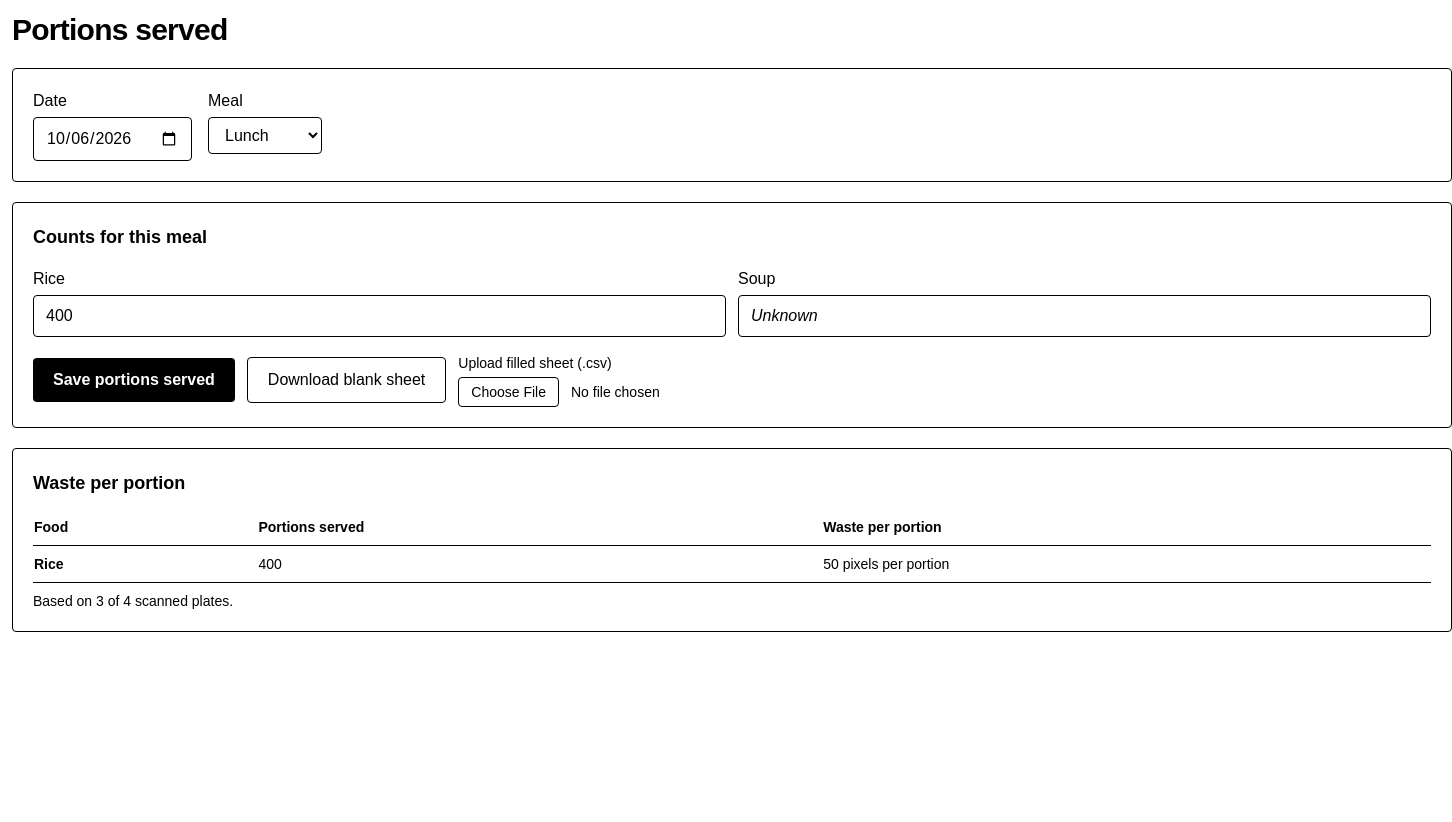
Portions served › saves explicit zero versus unknown, preserves stable IDs and displays the benchmark
This screenshot has width=1452, height=822.
Expected: the number field labelled "Soup" is not empty, 738,295 -> 1431,337
Replace the text in the number field labelled "Rice" with "0" at coordinates (380, 316), box 33,295 -> 726,337
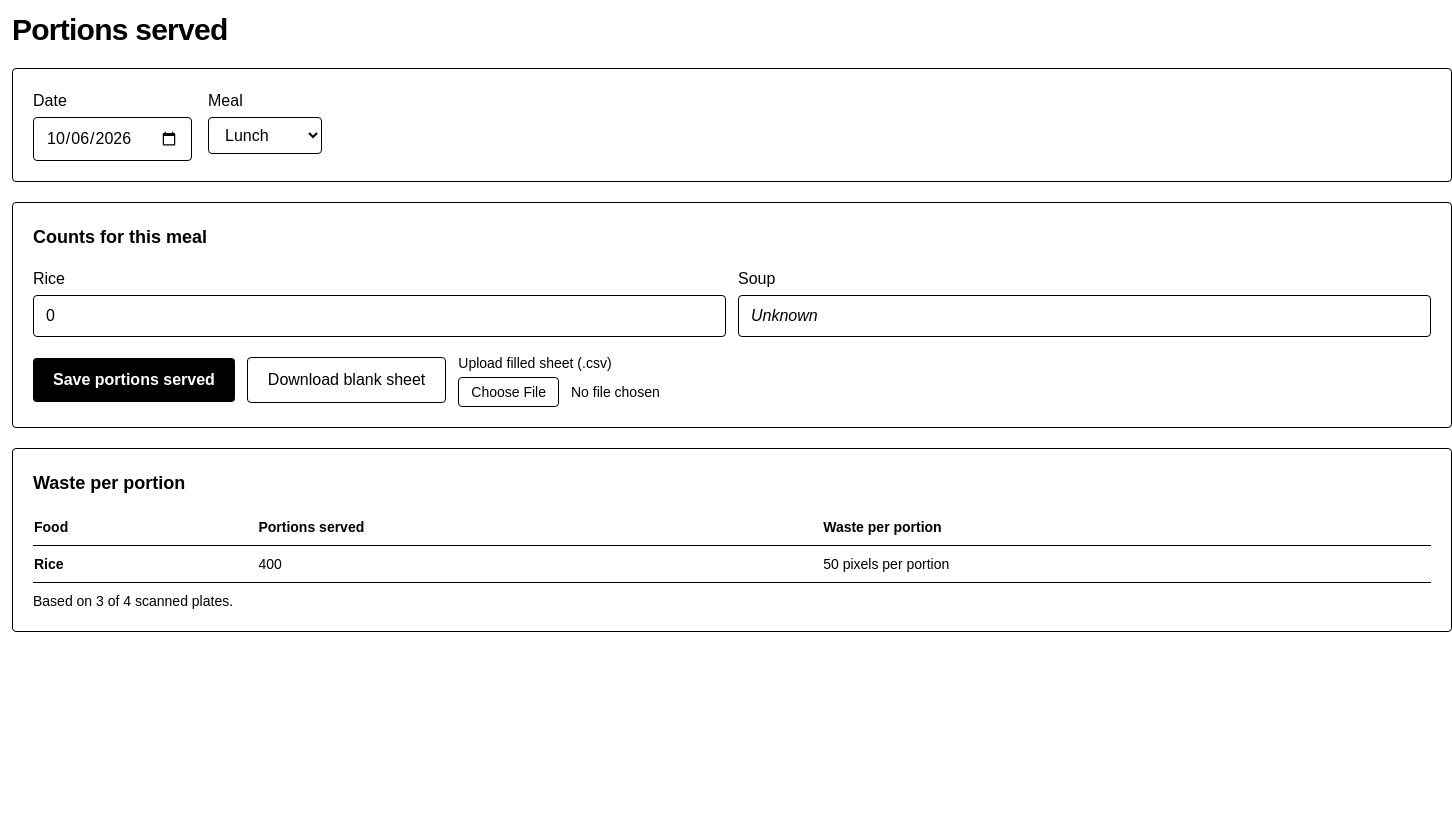
Click the button "Save portions served" at coordinates (134, 380), box 33,358 -> 235,402
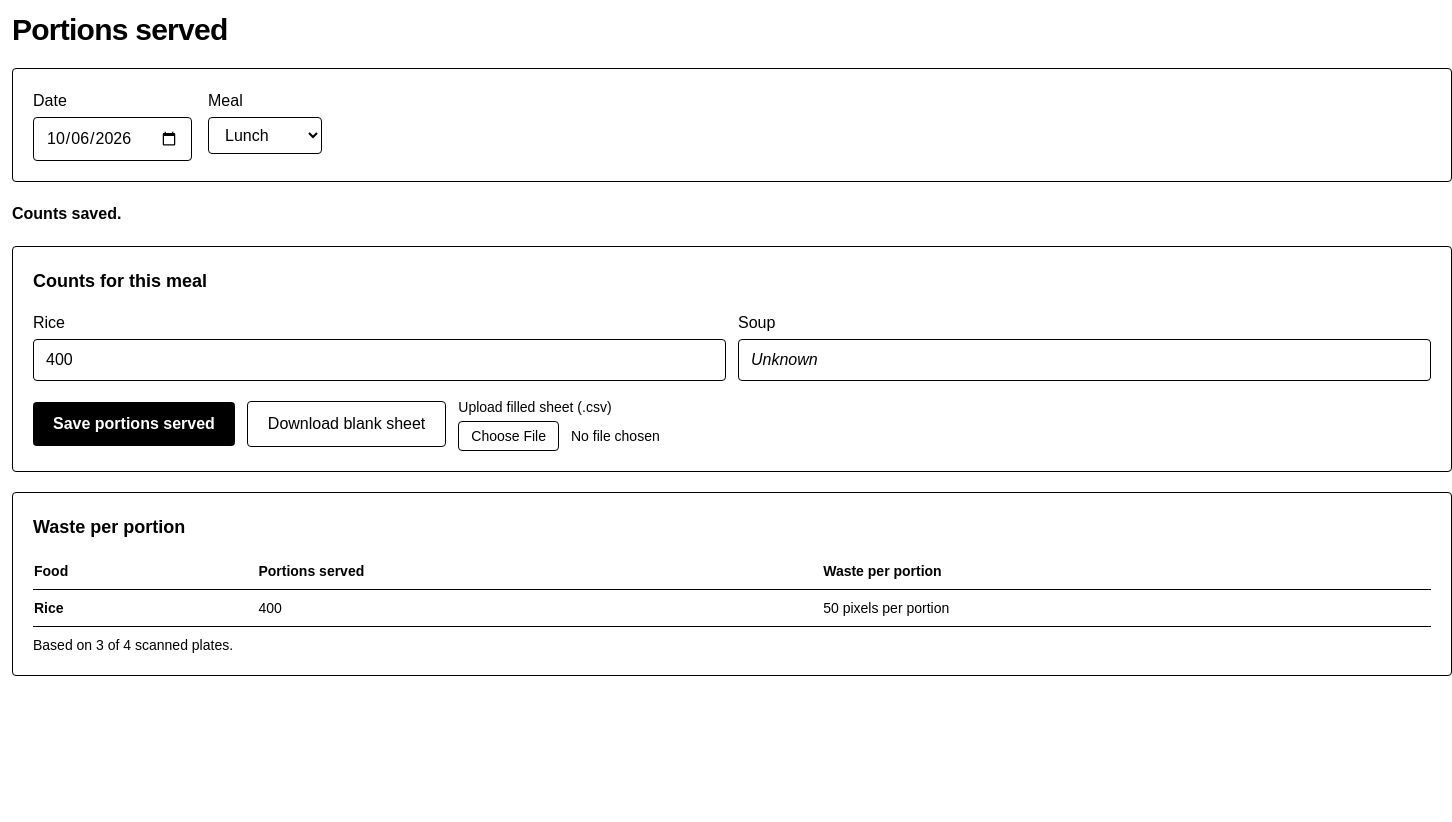
Expected: the table shows "Waste per portion", 823,563 -> 942,579
Expected: the message shows "Counts saved", 12,205 -> 121,222
